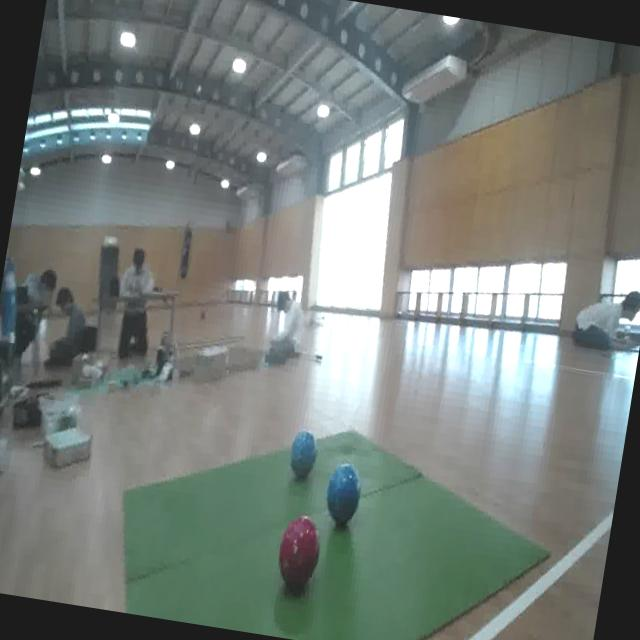blue_ball: (322, 460, 366, 530), (286, 431, 320, 482)
red_ball: (274, 508, 327, 598)
